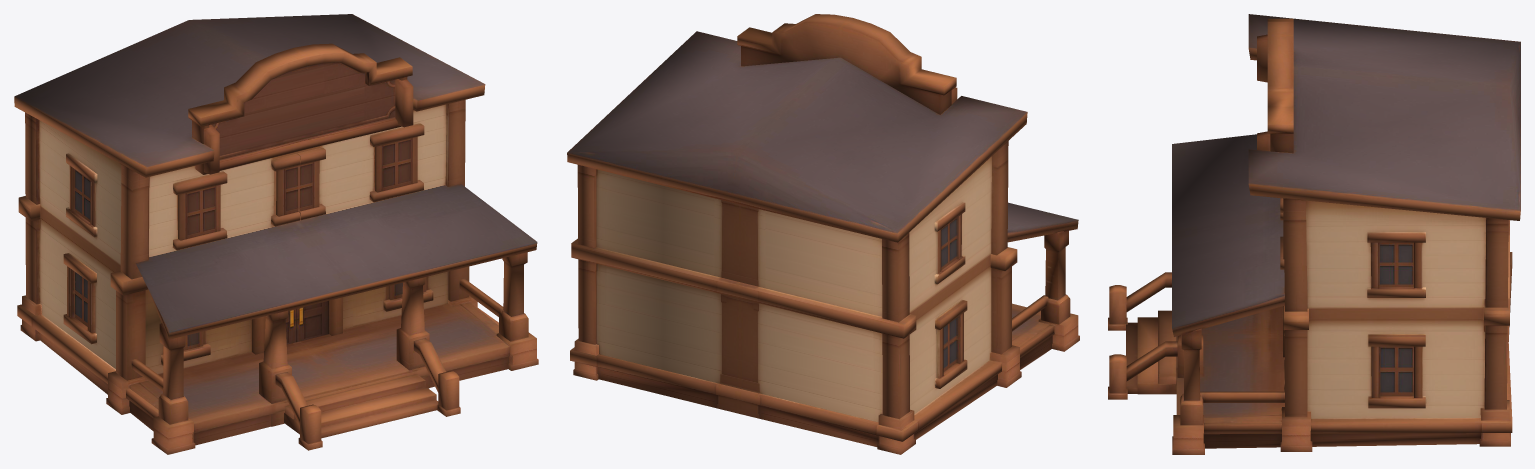
Rendered from bank.glb.
3 renders of one model, left to right at view 1: azimuth 30°, elevation 25°; view 2: azimuth 150°, elevation 25°; view 3: azimuth 270°, elevation 25°, orthographic. The views are drawn at different scales.
Parts seen in each view (by area): view 1: Bank; view 2: Bank; view 3: Bank.
Part boxes in pixels (x1=…): Bank: x1=14, y1=14, x2=538, y2=454; Bank: x1=567, y1=14, x2=1079, y2=454; Bank: x1=1108, y1=14, x2=1520, y2=454.
Size of what is drawn, in the model's own units: 13.48 by 11.09 by 12.67.
Materials: 1 (1 with a texture image).
